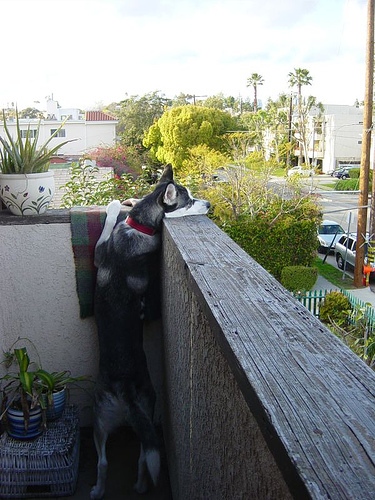dog: (81, 163, 211, 498)
